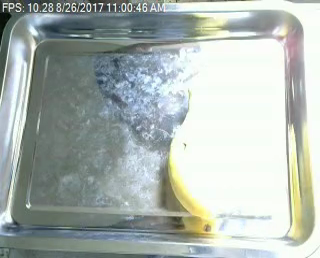Mango: (163, 88, 238, 222)
